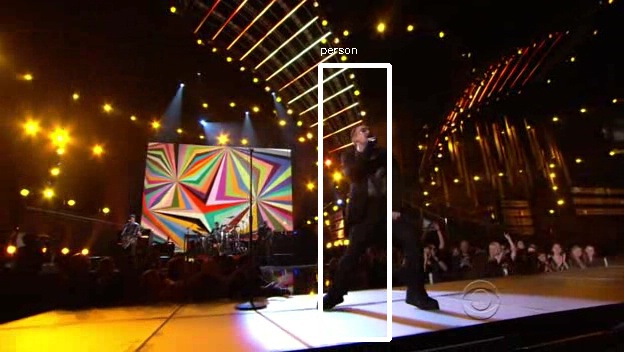person: (340, 124, 407, 239), (337, 124, 404, 239), (343, 124, 410, 239), (340, 121, 407, 236), (340, 127, 407, 242)
target_negative: (234, 69, 609, 307), (523, 88, 573, 205), (594, 184, 610, 298), (537, 124, 568, 169), (373, 345, 537, 349), (523, 6, 572, 8)
